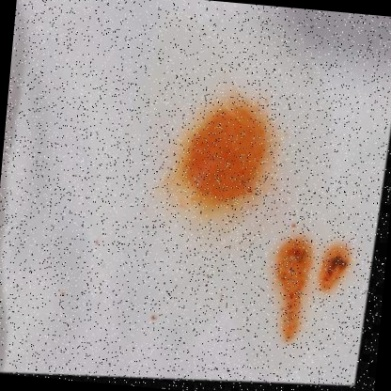kimchi: (166, 92, 278, 212), (266, 231, 318, 346), (322, 239, 354, 288), (149, 310, 164, 328), (289, 215, 300, 230)
